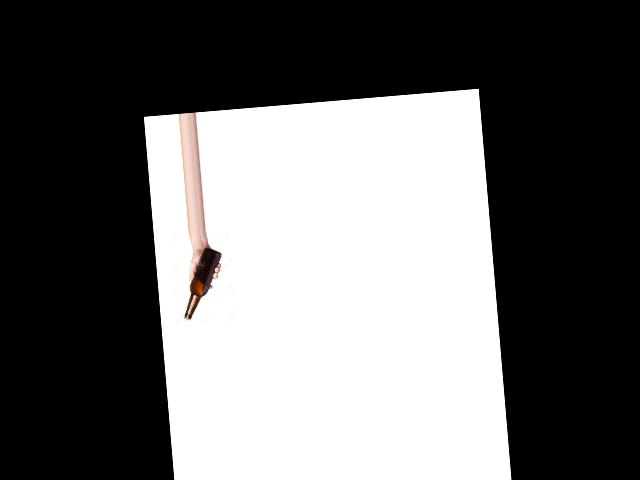beer: (177, 246, 226, 320)
